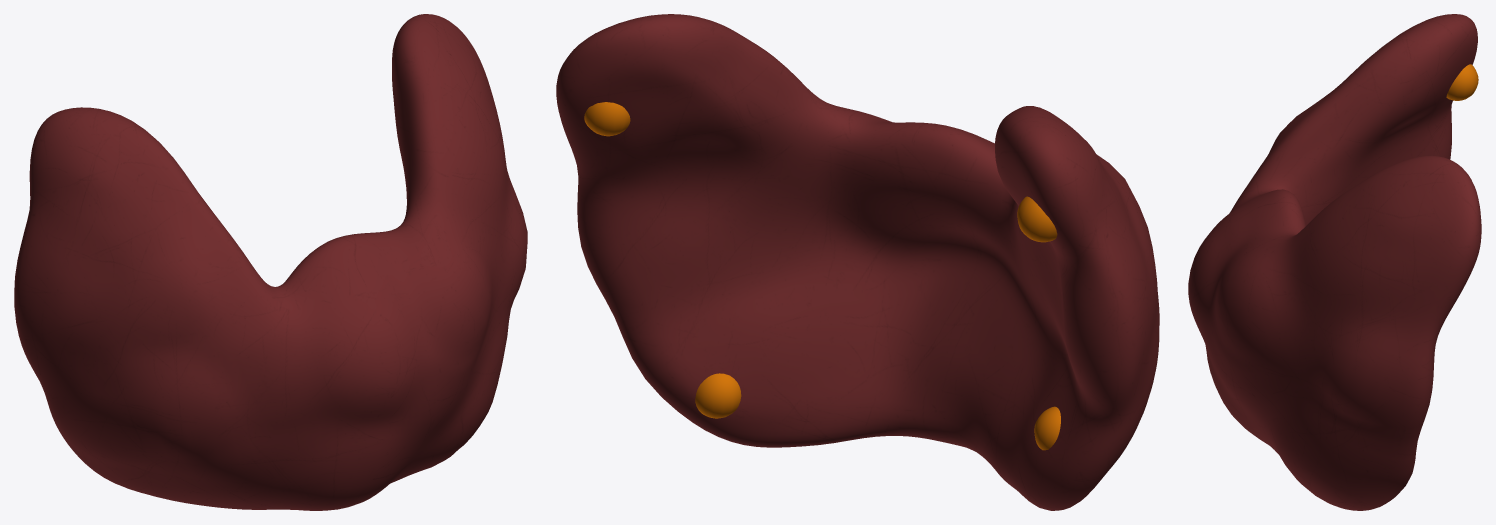
Rendered from Parathyroid and Thyroid Glands.fbx.
3 views of the same model, side by side, from view 1: azimuth 30°, elevation 25°; view 2: azimuth 150°, elevation 25°; view 3: azimuth 270°, elevation 25° (orthographic). The views are drawn at different scales.
Visible parts, largest first — view 1: Tyroid Glands; view 2: Tyroid Glands, Parathyroid Glands; view 3: Tyroid Glands, Parathyroid Glands.
Boxes of the visible parts, x1,y1,x2,y2 form: Tyroid Glands: [14, 14, 527, 510]; Tyroid Glands: [556, 14, 1159, 510]; Parathyroid Glands: [584, 102, 1060, 450]; Tyroid Glands: [1188, 14, 1481, 510]; Parathyroid Glands: [1446, 64, 1478, 100].
Bounding box in the file's own units: 271 × 210 × 152.
